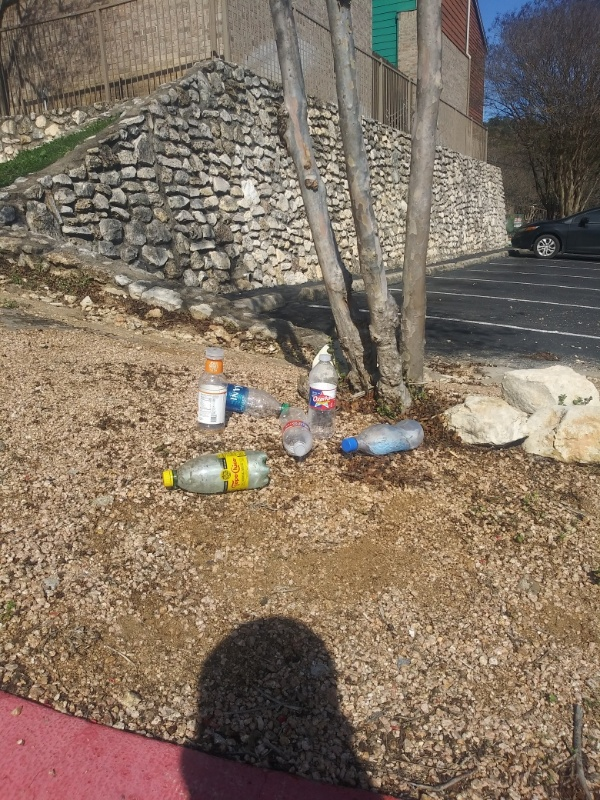bottle: (161, 448, 280, 501), (339, 415, 428, 460), (301, 349, 343, 438), (196, 344, 230, 439), (221, 378, 296, 416), (278, 401, 319, 463)
